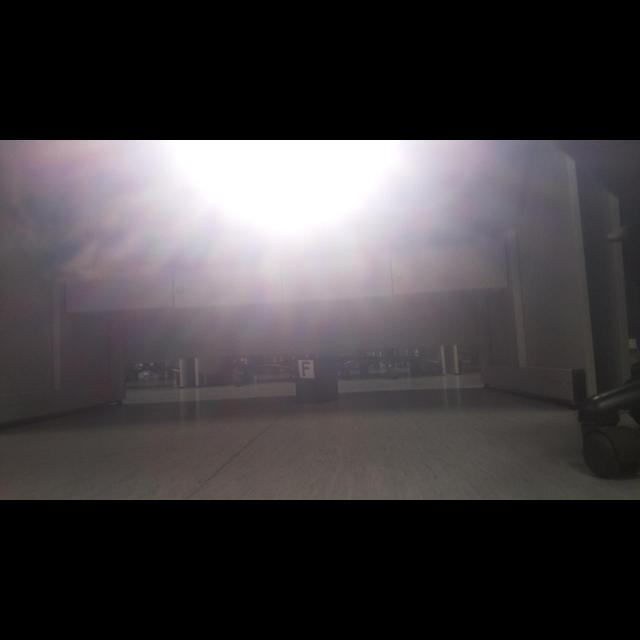F: (302, 362, 310, 376)
